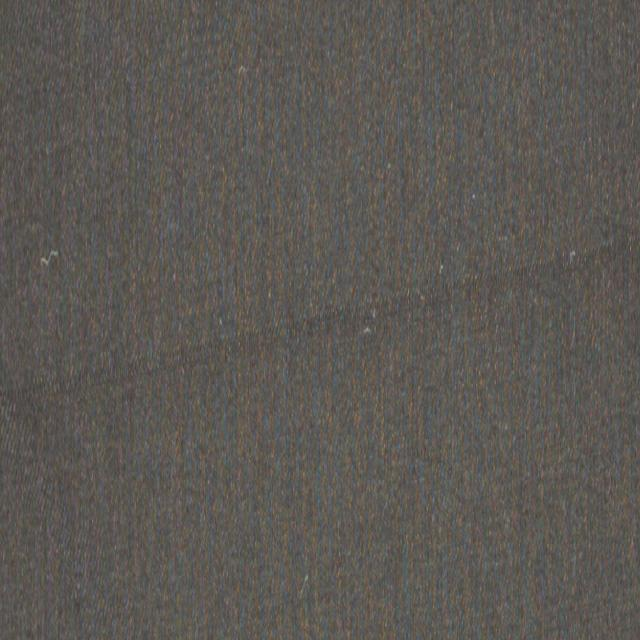Line: (0, 227, 640, 412)
